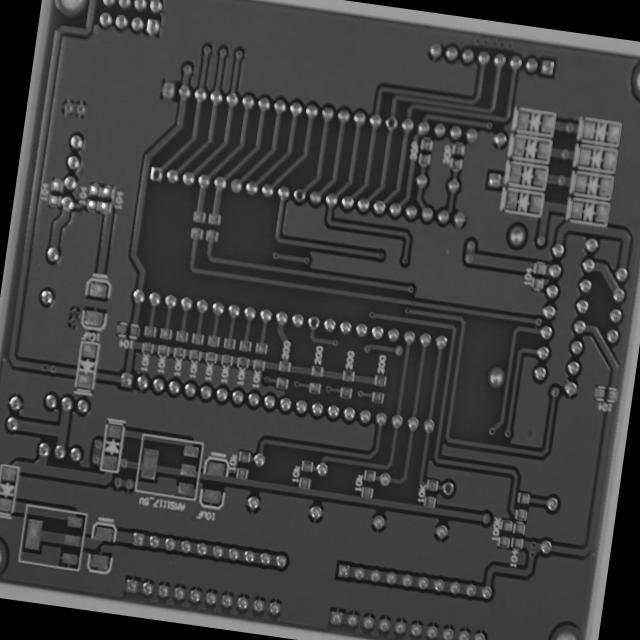missing_hole: (383, 112, 401, 134), (148, 163, 164, 186), (291, 186, 308, 207), (305, 312, 322, 333), (439, 478, 456, 499)
